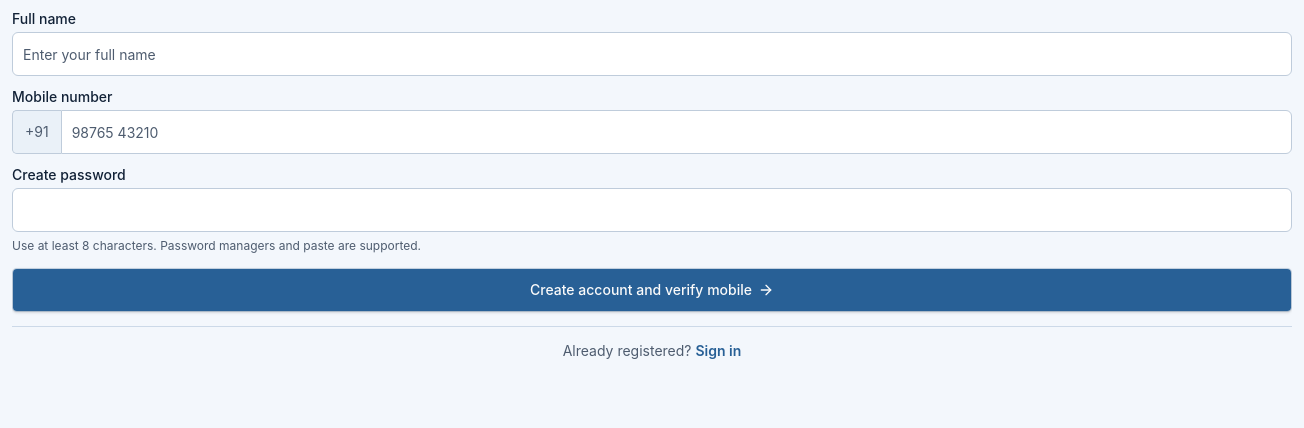
Test: authentication workflow › reports an existing account during registration and keeps entered data
This screenshot has width=1304, height=428.
In the field labelled "Full name": coordinates (652, 54) [12, 32, 1292, 76], type "Applicant One"
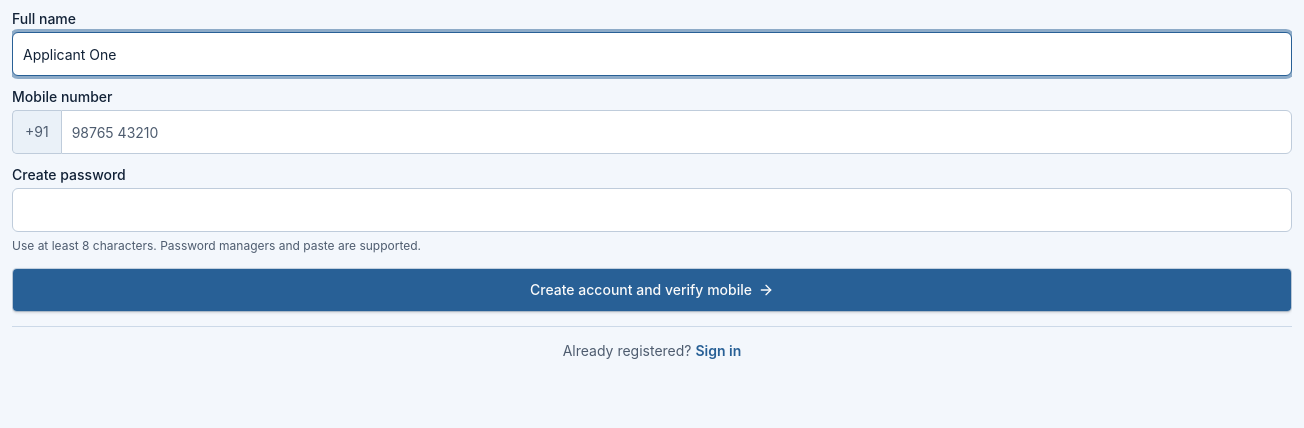
In the field labelled "Mobile number": coordinates (676, 132) [61, 110, 1292, 154], type "9876543210"
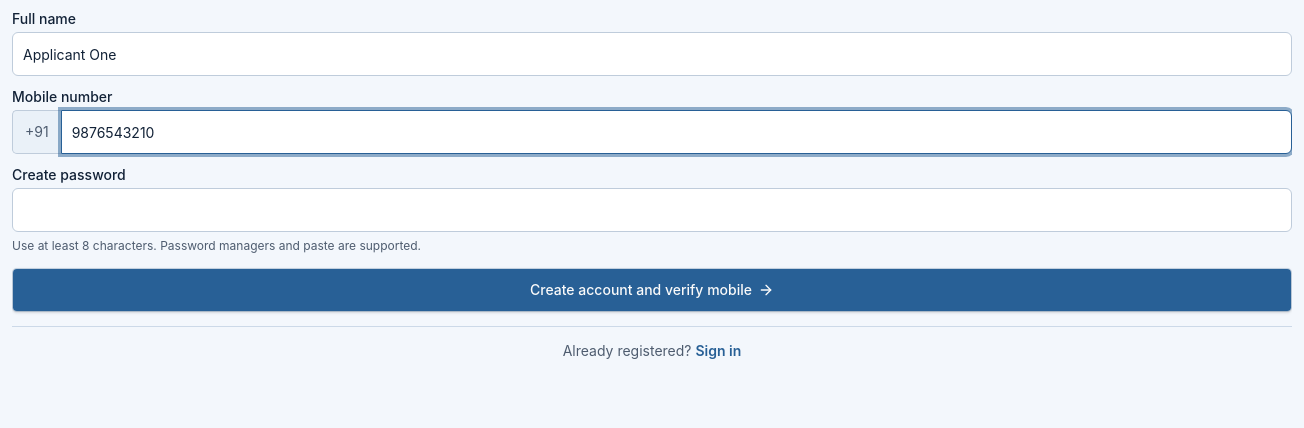
In the password field labelled "Create password": coordinates (652, 210) [12, 188, 1292, 232], type "strong-password"
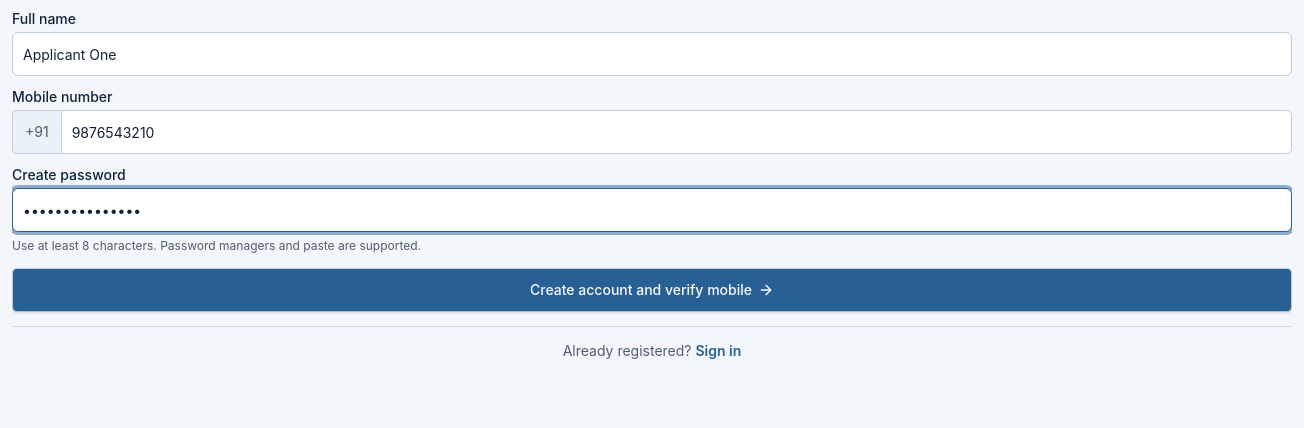
Click the button "Create account and verify mobile": coordinates (652, 290) [12, 268, 1292, 312]
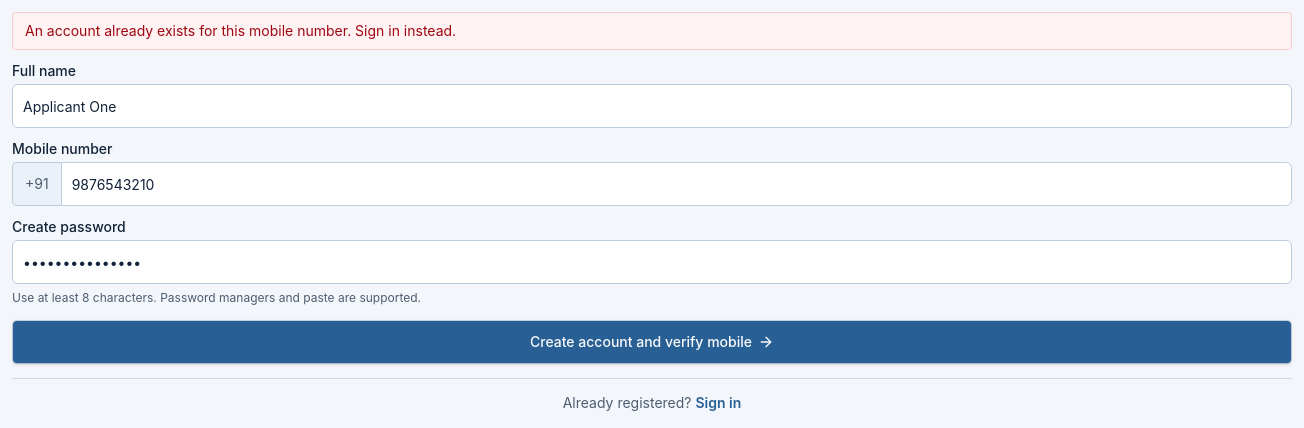
Check: the message shows "account already exists", box [25, 22, 456, 39]
